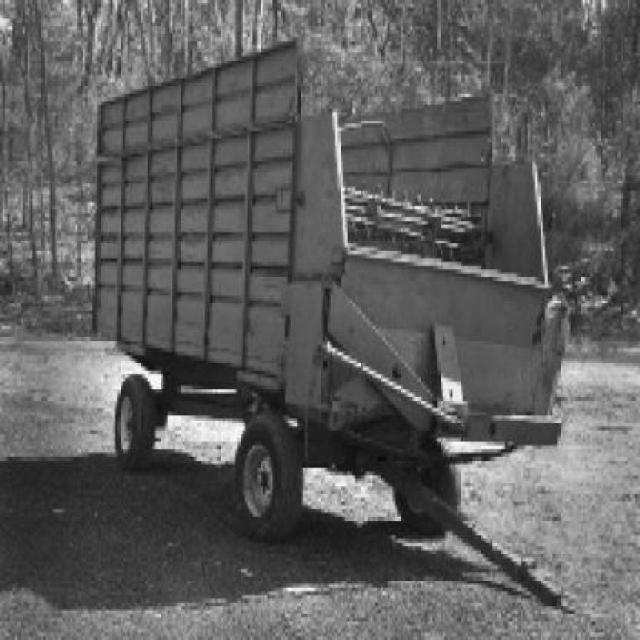Trailer: (92, 41, 572, 604)
